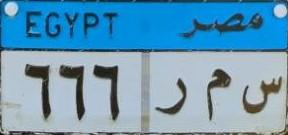6: (91, 59, 124, 123), (56, 62, 89, 125), (23, 59, 53, 124)
meem: (200, 65, 233, 125)
raa: (153, 71, 188, 124)
seen: (237, 71, 285, 123)
